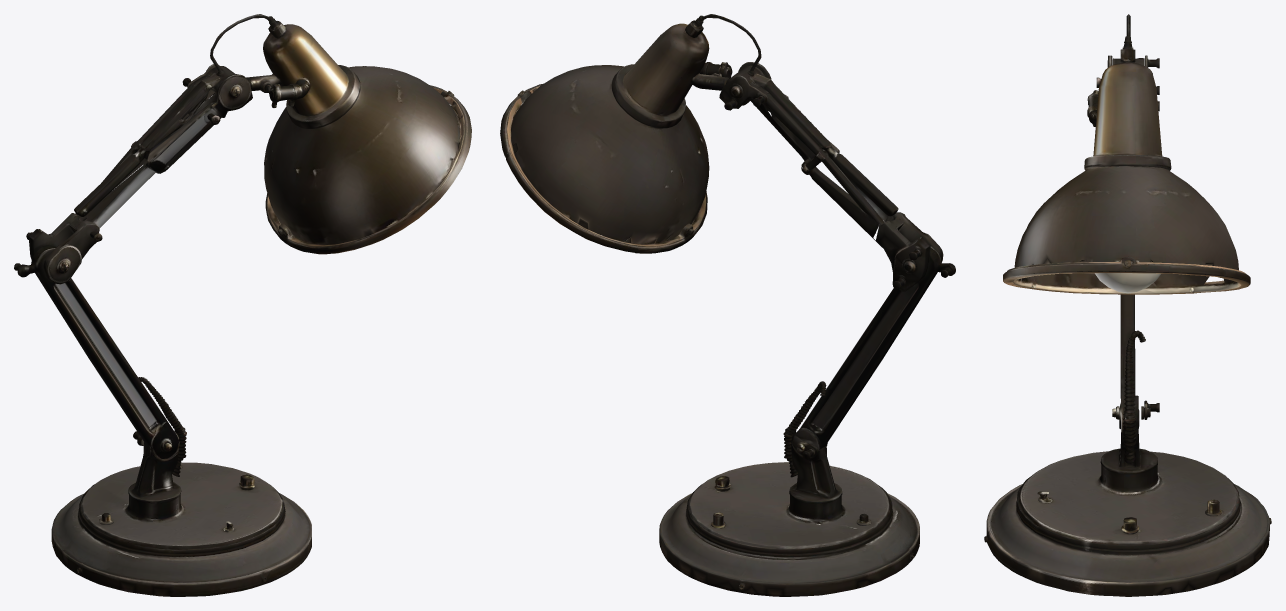
File: desk_lamp.glb
3 views of the same model, side by side, from view 1: azimuth 30°, elevation 25°; view 2: azimuth 150°, elevation 25°; view 3: azimuth 270°, elevation 25° (orthographic). The views are drawn at different scales.
Parts seen in each view (by area): view 1: e79d3a40_5f6b_4034_9782_8d0e13de2782; view 2: e79d3a40_5f6b_4034_9782_8d0e13de2782; view 3: e79d3a40_5f6b_4034_9782_8d0e13de2782.
Part boxes in pixels (left/top/right/bottom): e79d3a40_5f6b_4034_9782_8d0e13de2782: left=14, top=14, right=471, bottom=596; e79d3a40_5f6b_4034_9782_8d0e13de2782: left=500, top=14, right=955, bottom=596; e79d3a40_5f6b_4034_9782_8d0e13de2782: left=984, top=14, right=1271, bottom=596.
Bounding box in the file's own units: 0.896 × 0.9995 × 0.4702.
1 material, 1 textured.
